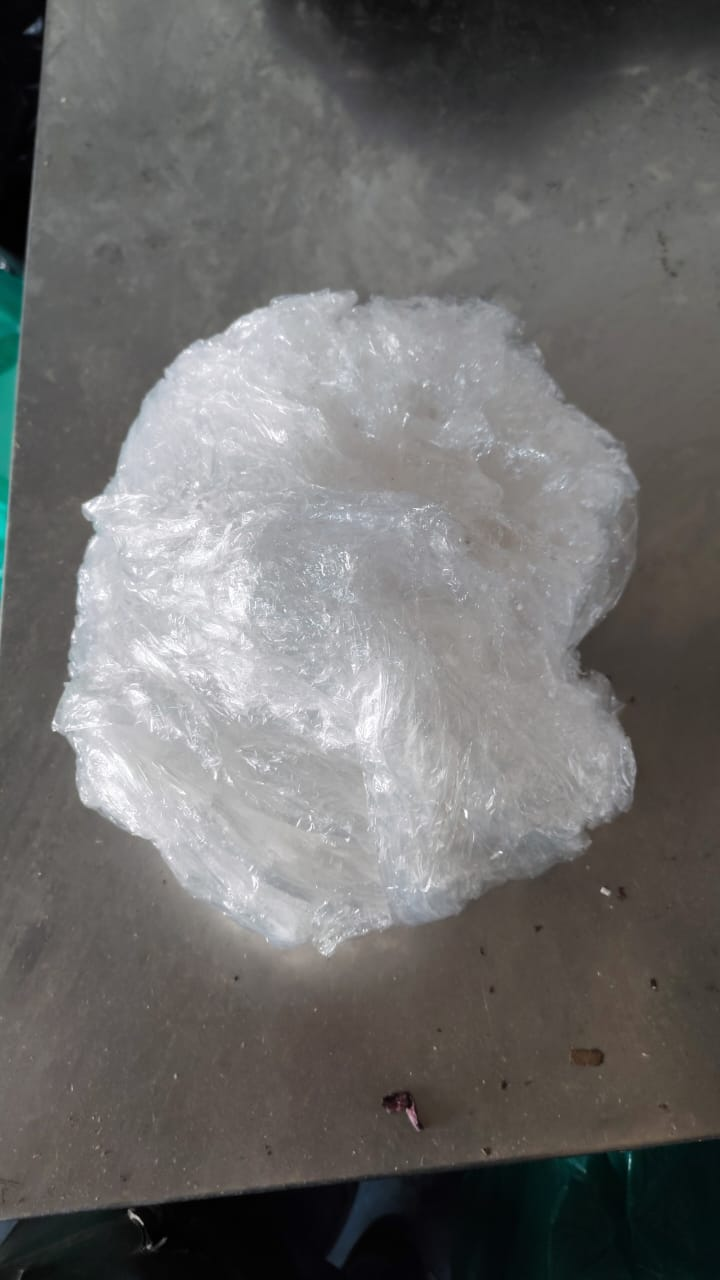Plastico: (52, 286, 644, 952)
